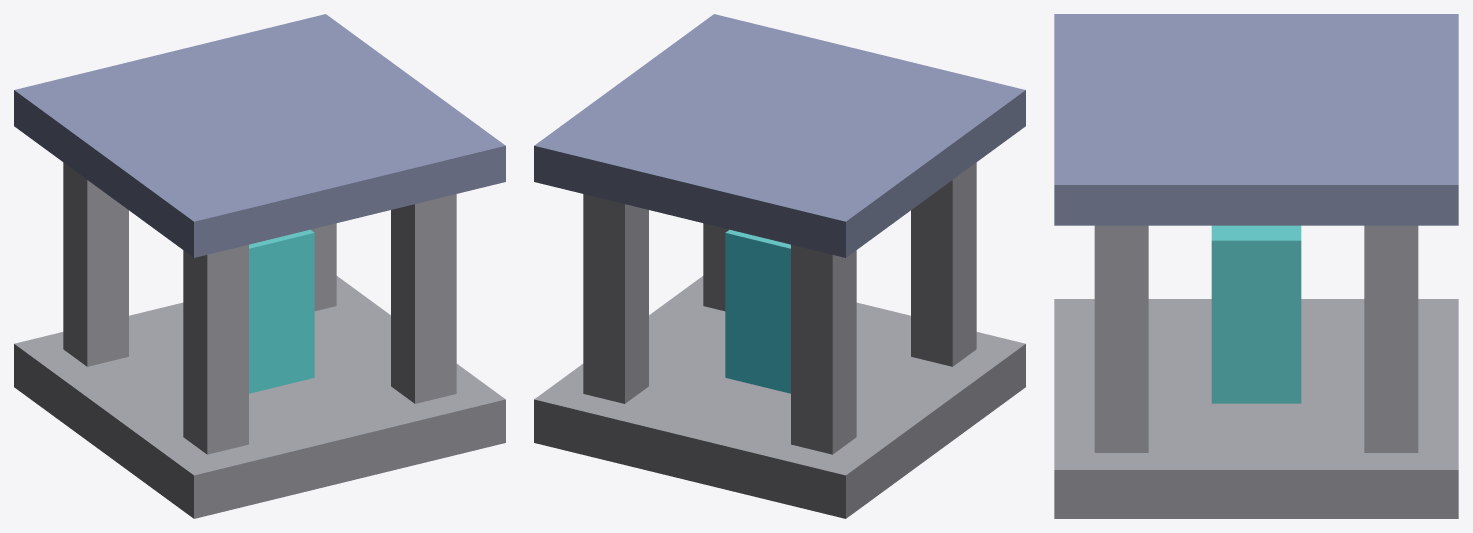
The model's file is ow_shrine.glb.
3 views of the same model, side by side, from view 1: azimuth 30°, elevation 25°; view 2: azimuth 150°, elevation 25°; view 3: azimuth 270°, elevation 25° (orthographic). The views are drawn at different scales.
Visible parts, largest first — view 1: scenery; view 2: scenery; view 3: scenery.
Boxes of the visible parts, x1=… form: scenery: x1=14, y1=14, x2=505, y2=518; scenery: x1=534, y1=14, x2=1025, y2=518; scenery: x1=1054, y1=14, x2=1458, y2=518.
Bounding box in the file's own units: 0.9 × 0.82 × 0.9.
